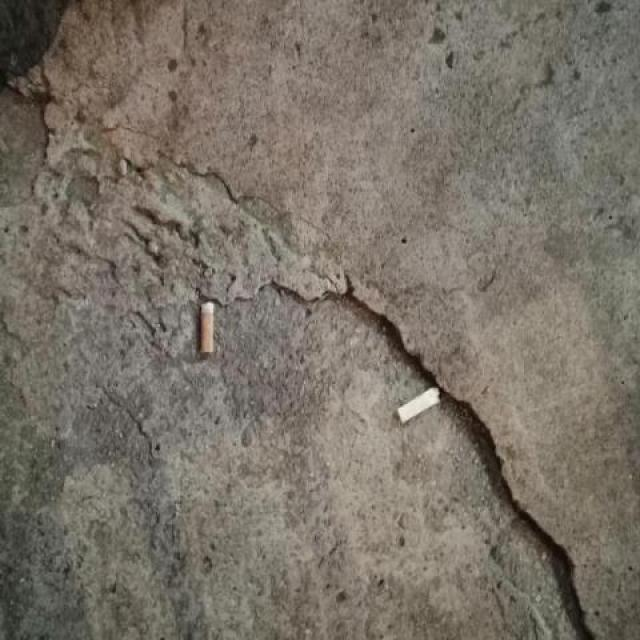non-organic waste: (392, 380, 445, 428), (196, 295, 220, 356)
